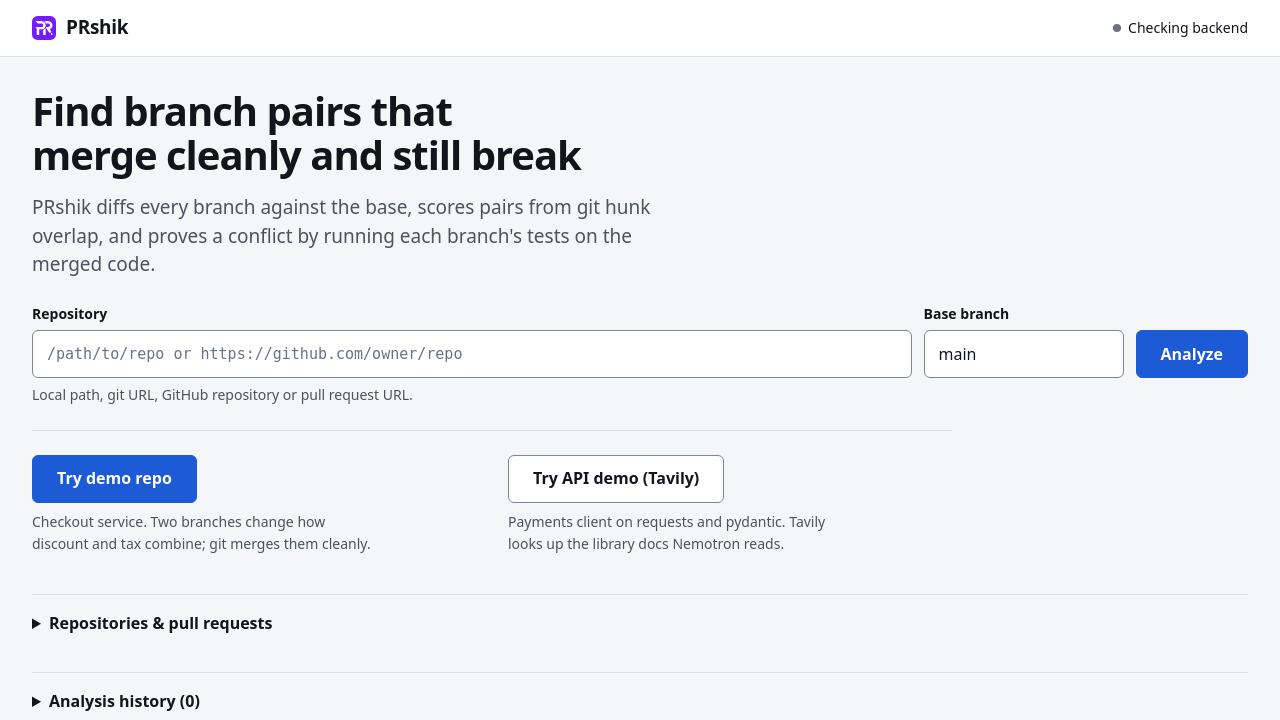
App › cancels a running analysis
Type "/tmp/repo" into the field labelled "Repository".
click(472, 354); type("/tmp/repo")  # box x1=32 y1=330 x2=912 y2=378
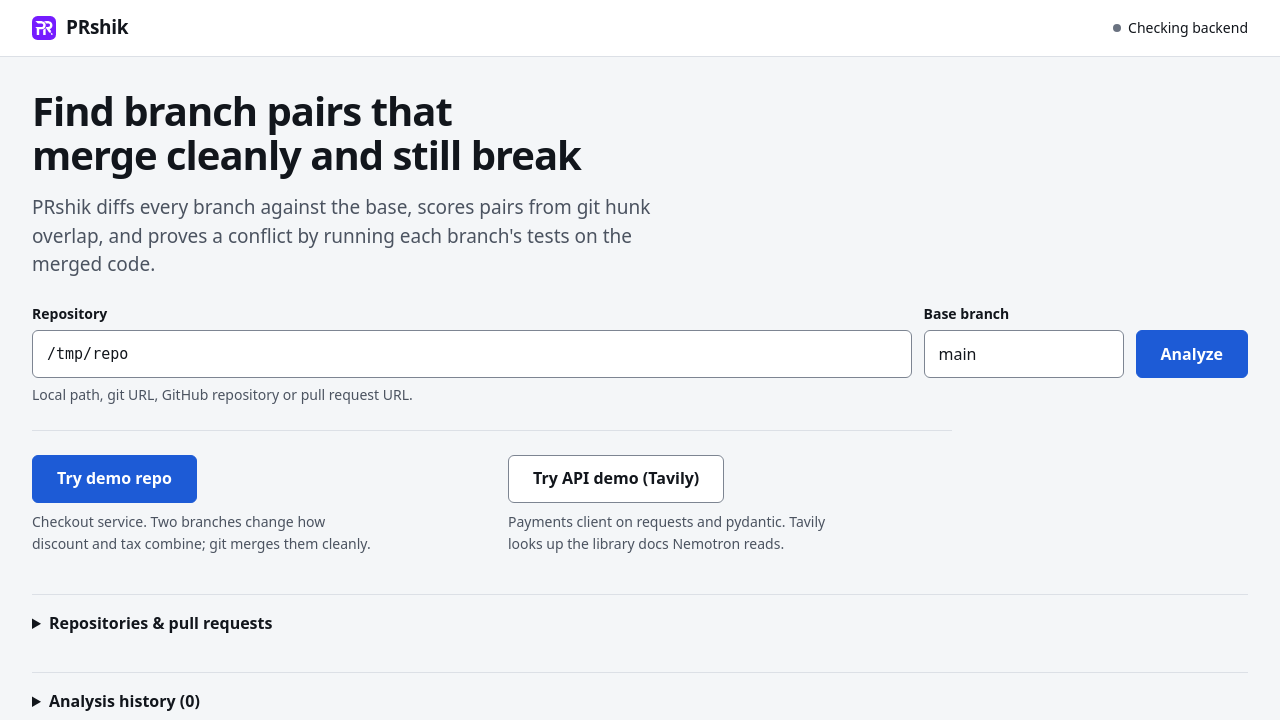
Click the button "Analyze".
click(1192, 354)  # box x1=1136 y1=330 x2=1248 y2=378
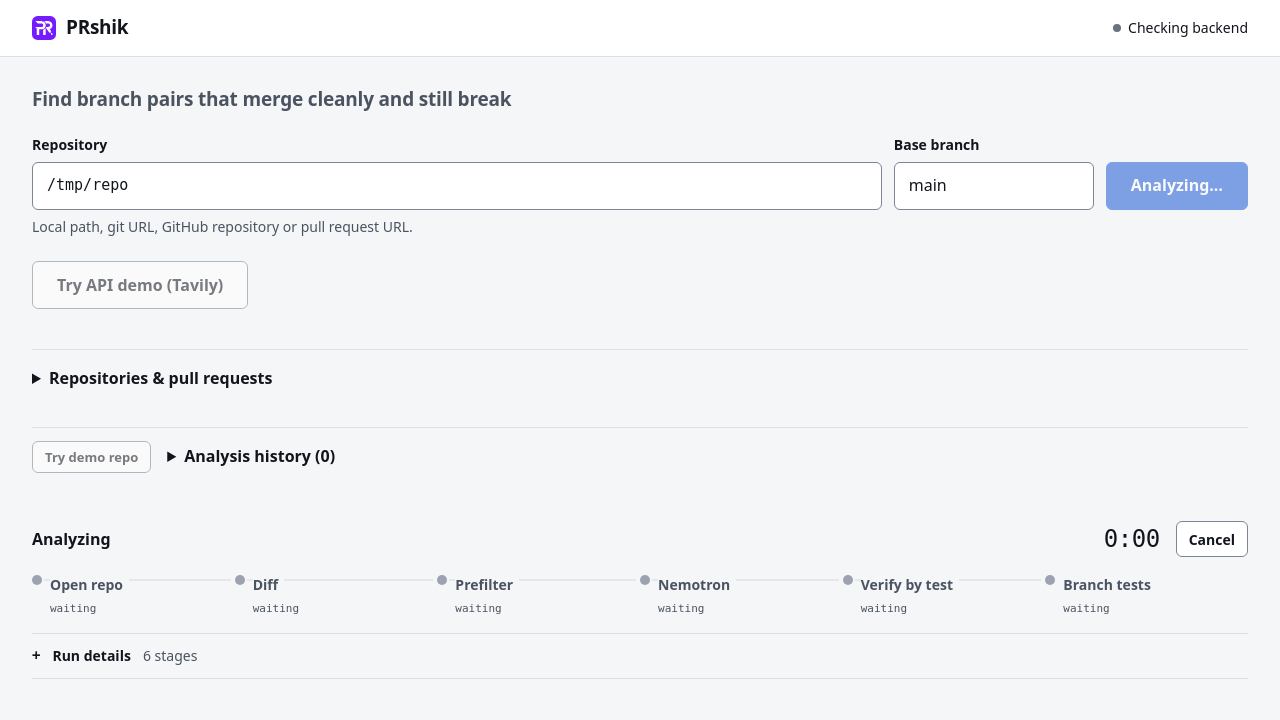
Click the button "Cancel".
click(1212, 540)  # box x1=1176 y1=522 x2=1248 y2=558
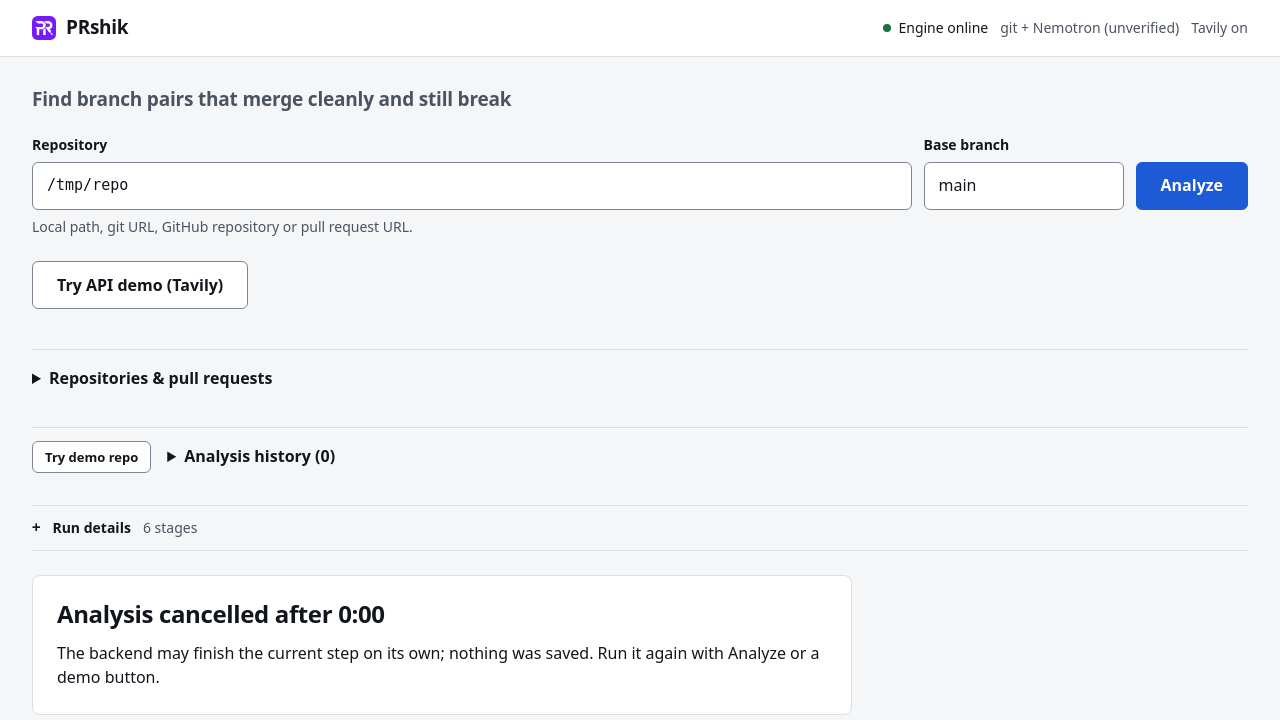
expect the heading "Analysis cancelled after 0:00" is shown: met, box x1=57 y1=600 x2=385 y2=629
expect the button "Analyze" is enabled: met, box x1=1136 y1=162 x2=1248 y2=210
